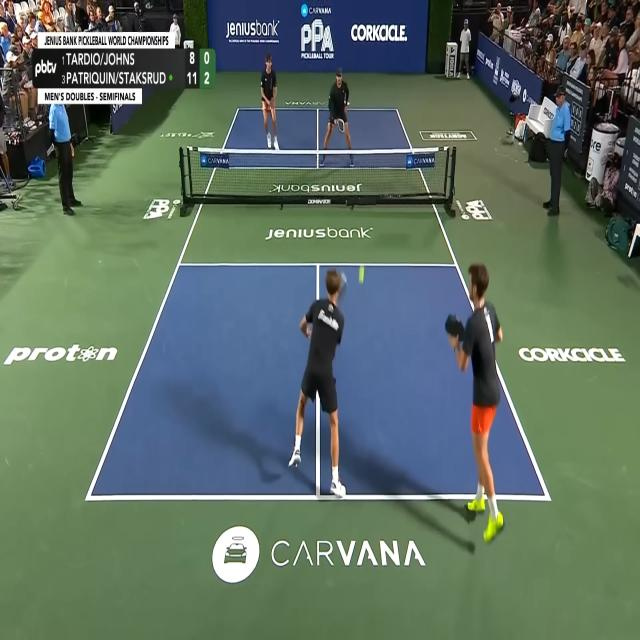ball: (358, 265, 365, 285)
